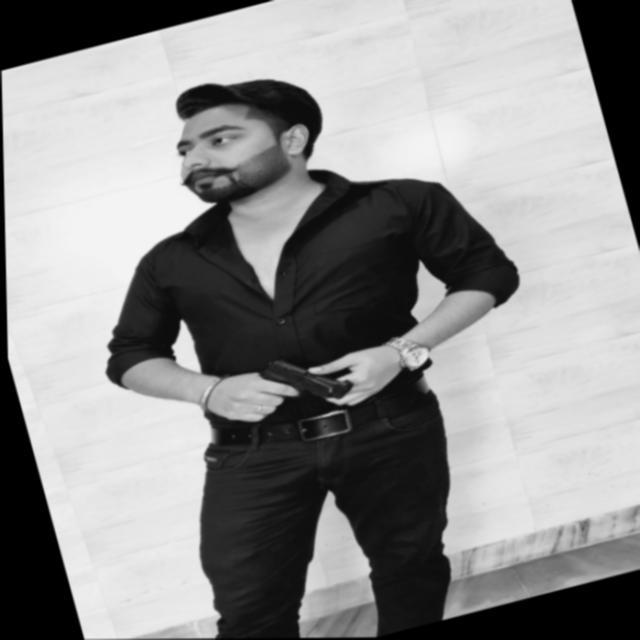weapon: (212, 341, 359, 430)
